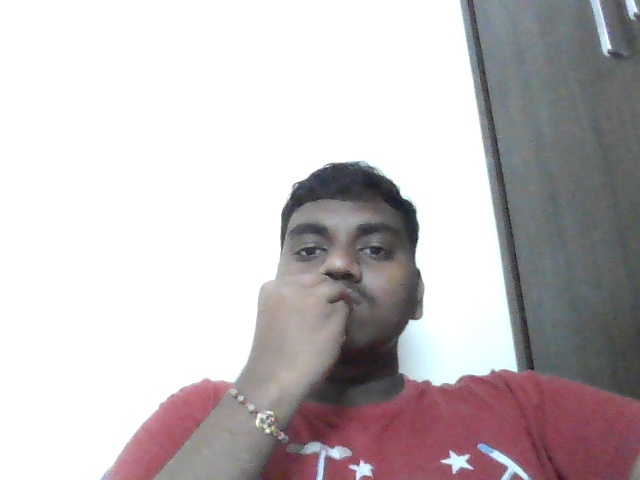Eat: (245, 265, 390, 415)
